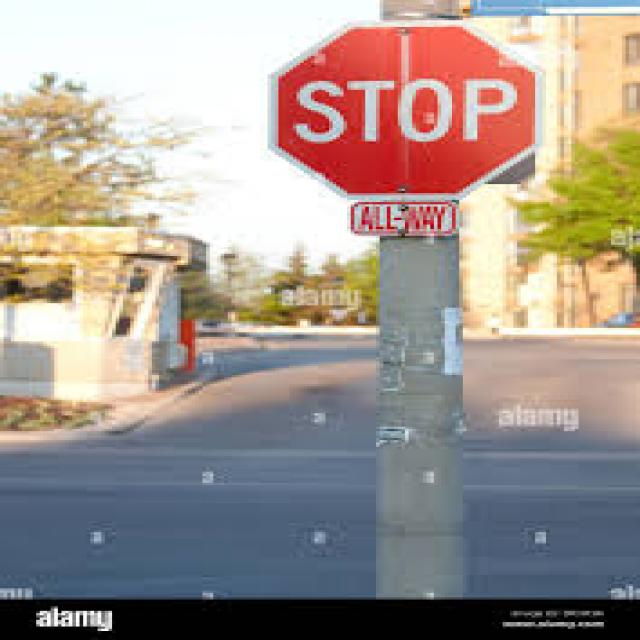stop-sign: (231, 40, 640, 229)
